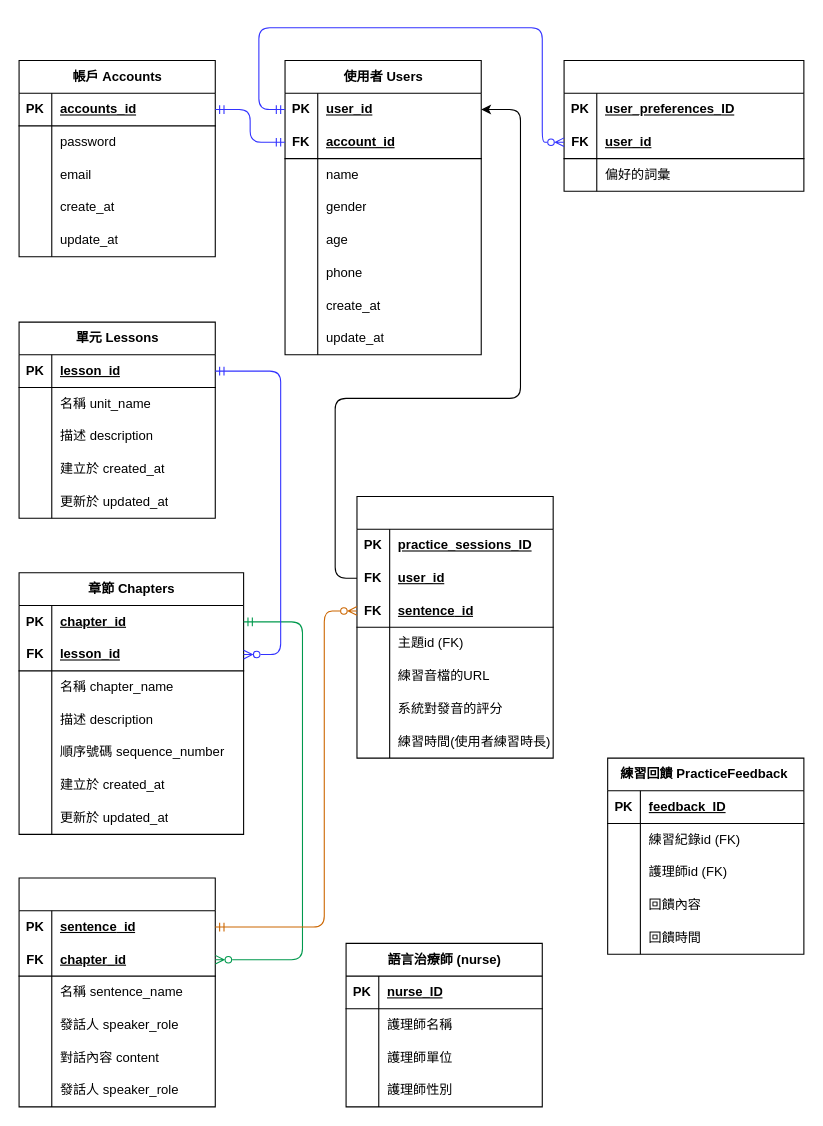
This 823x1126 diagram has some shape labels left out. The shapes that lost their labels are listed below. From the top down, each one's box as (x1, y1, x2, y2) in pixels, then its label:
(563, 59, 804, 191): 使用者偏好 (user_preferences)
(356, 495, 553, 758): 練習紀錄 PracticeHistorys
(18, 877, 215, 1107): 語句 Sentences
